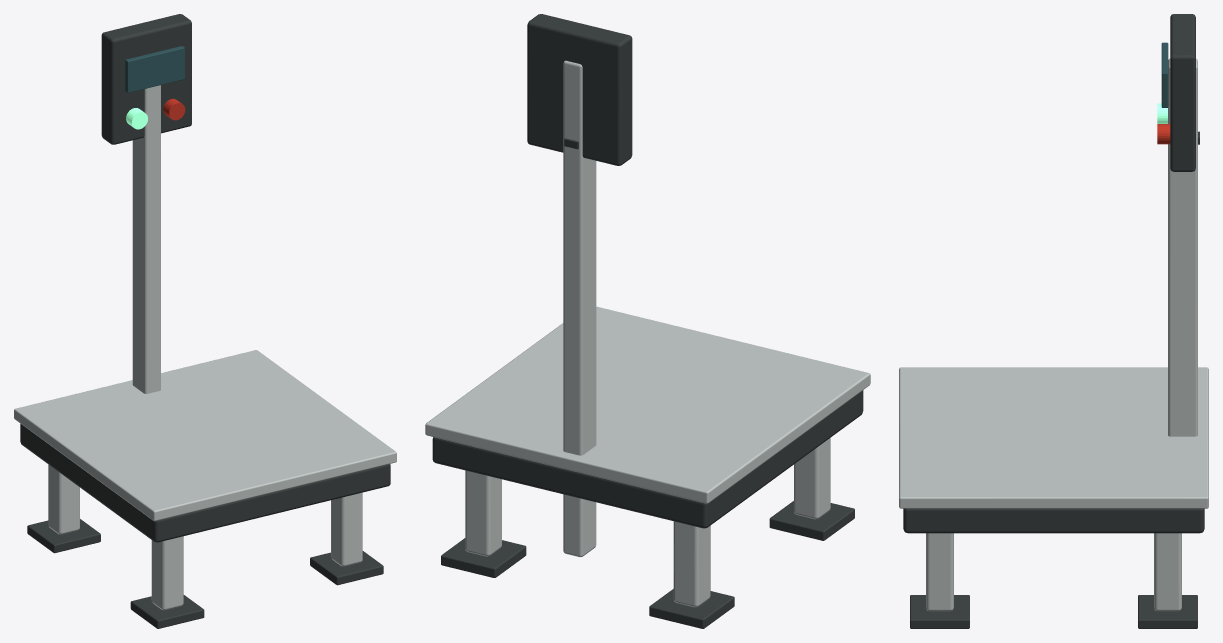
The model's file is tea-garden-and-processing-house-tea-garden-and-process-8d6ed83b__30761.glb.
3 renders of one model, left to right at view 1: azimuth 30°, elevation 25°; view 2: azimuth 150°, elevation 25°; view 3: azimuth 270°, elevation 25°, orthographic. The views are drawn at different scales.
Parts seen in each view (by area): view 1: tea-garden-and-processing-house-harvest-weighing-stand; view 2: tea-garden-and-processing-house-harvest-weighing-stand; view 3: tea-garden-and-processing-house-harvest-weighing-stand.
Part boxes in pixels (<box>): tea-garden-and-processing-house-harvest-weighing-stand: <box>14,14,396,628</box>; tea-garden-and-processing-house-harvest-weighing-stand: <box>425,14,870,628</box>; tea-garden-and-processing-house-harvest-weighing-stand: <box>899,14,1208,628</box>.
Size of the model in its own units: 0.7201 by 1.37 by 0.7201.
